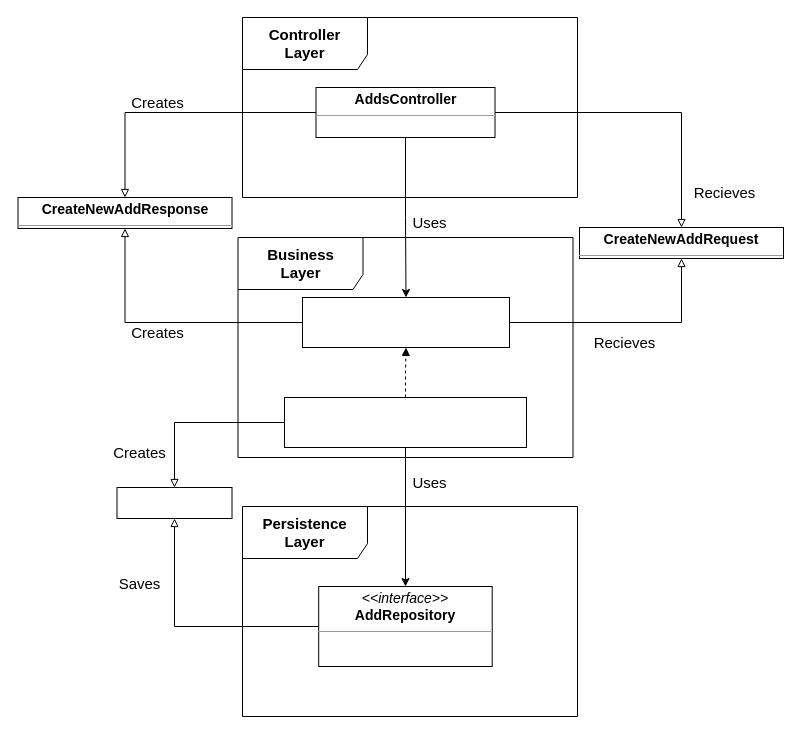
The diagram is 801 pixels wide and 734 high, and some of its shapes have lost their labels. Here are the shapes that lost their labels. From the top down, the centre of each, then its label:
At pixel 406 322: "<<interface>> CreateNewAddUseCase".
At pixel 405 422: "CreateNewAddUseCaseImpl".
At pixel 174 502: "AddEntity".
